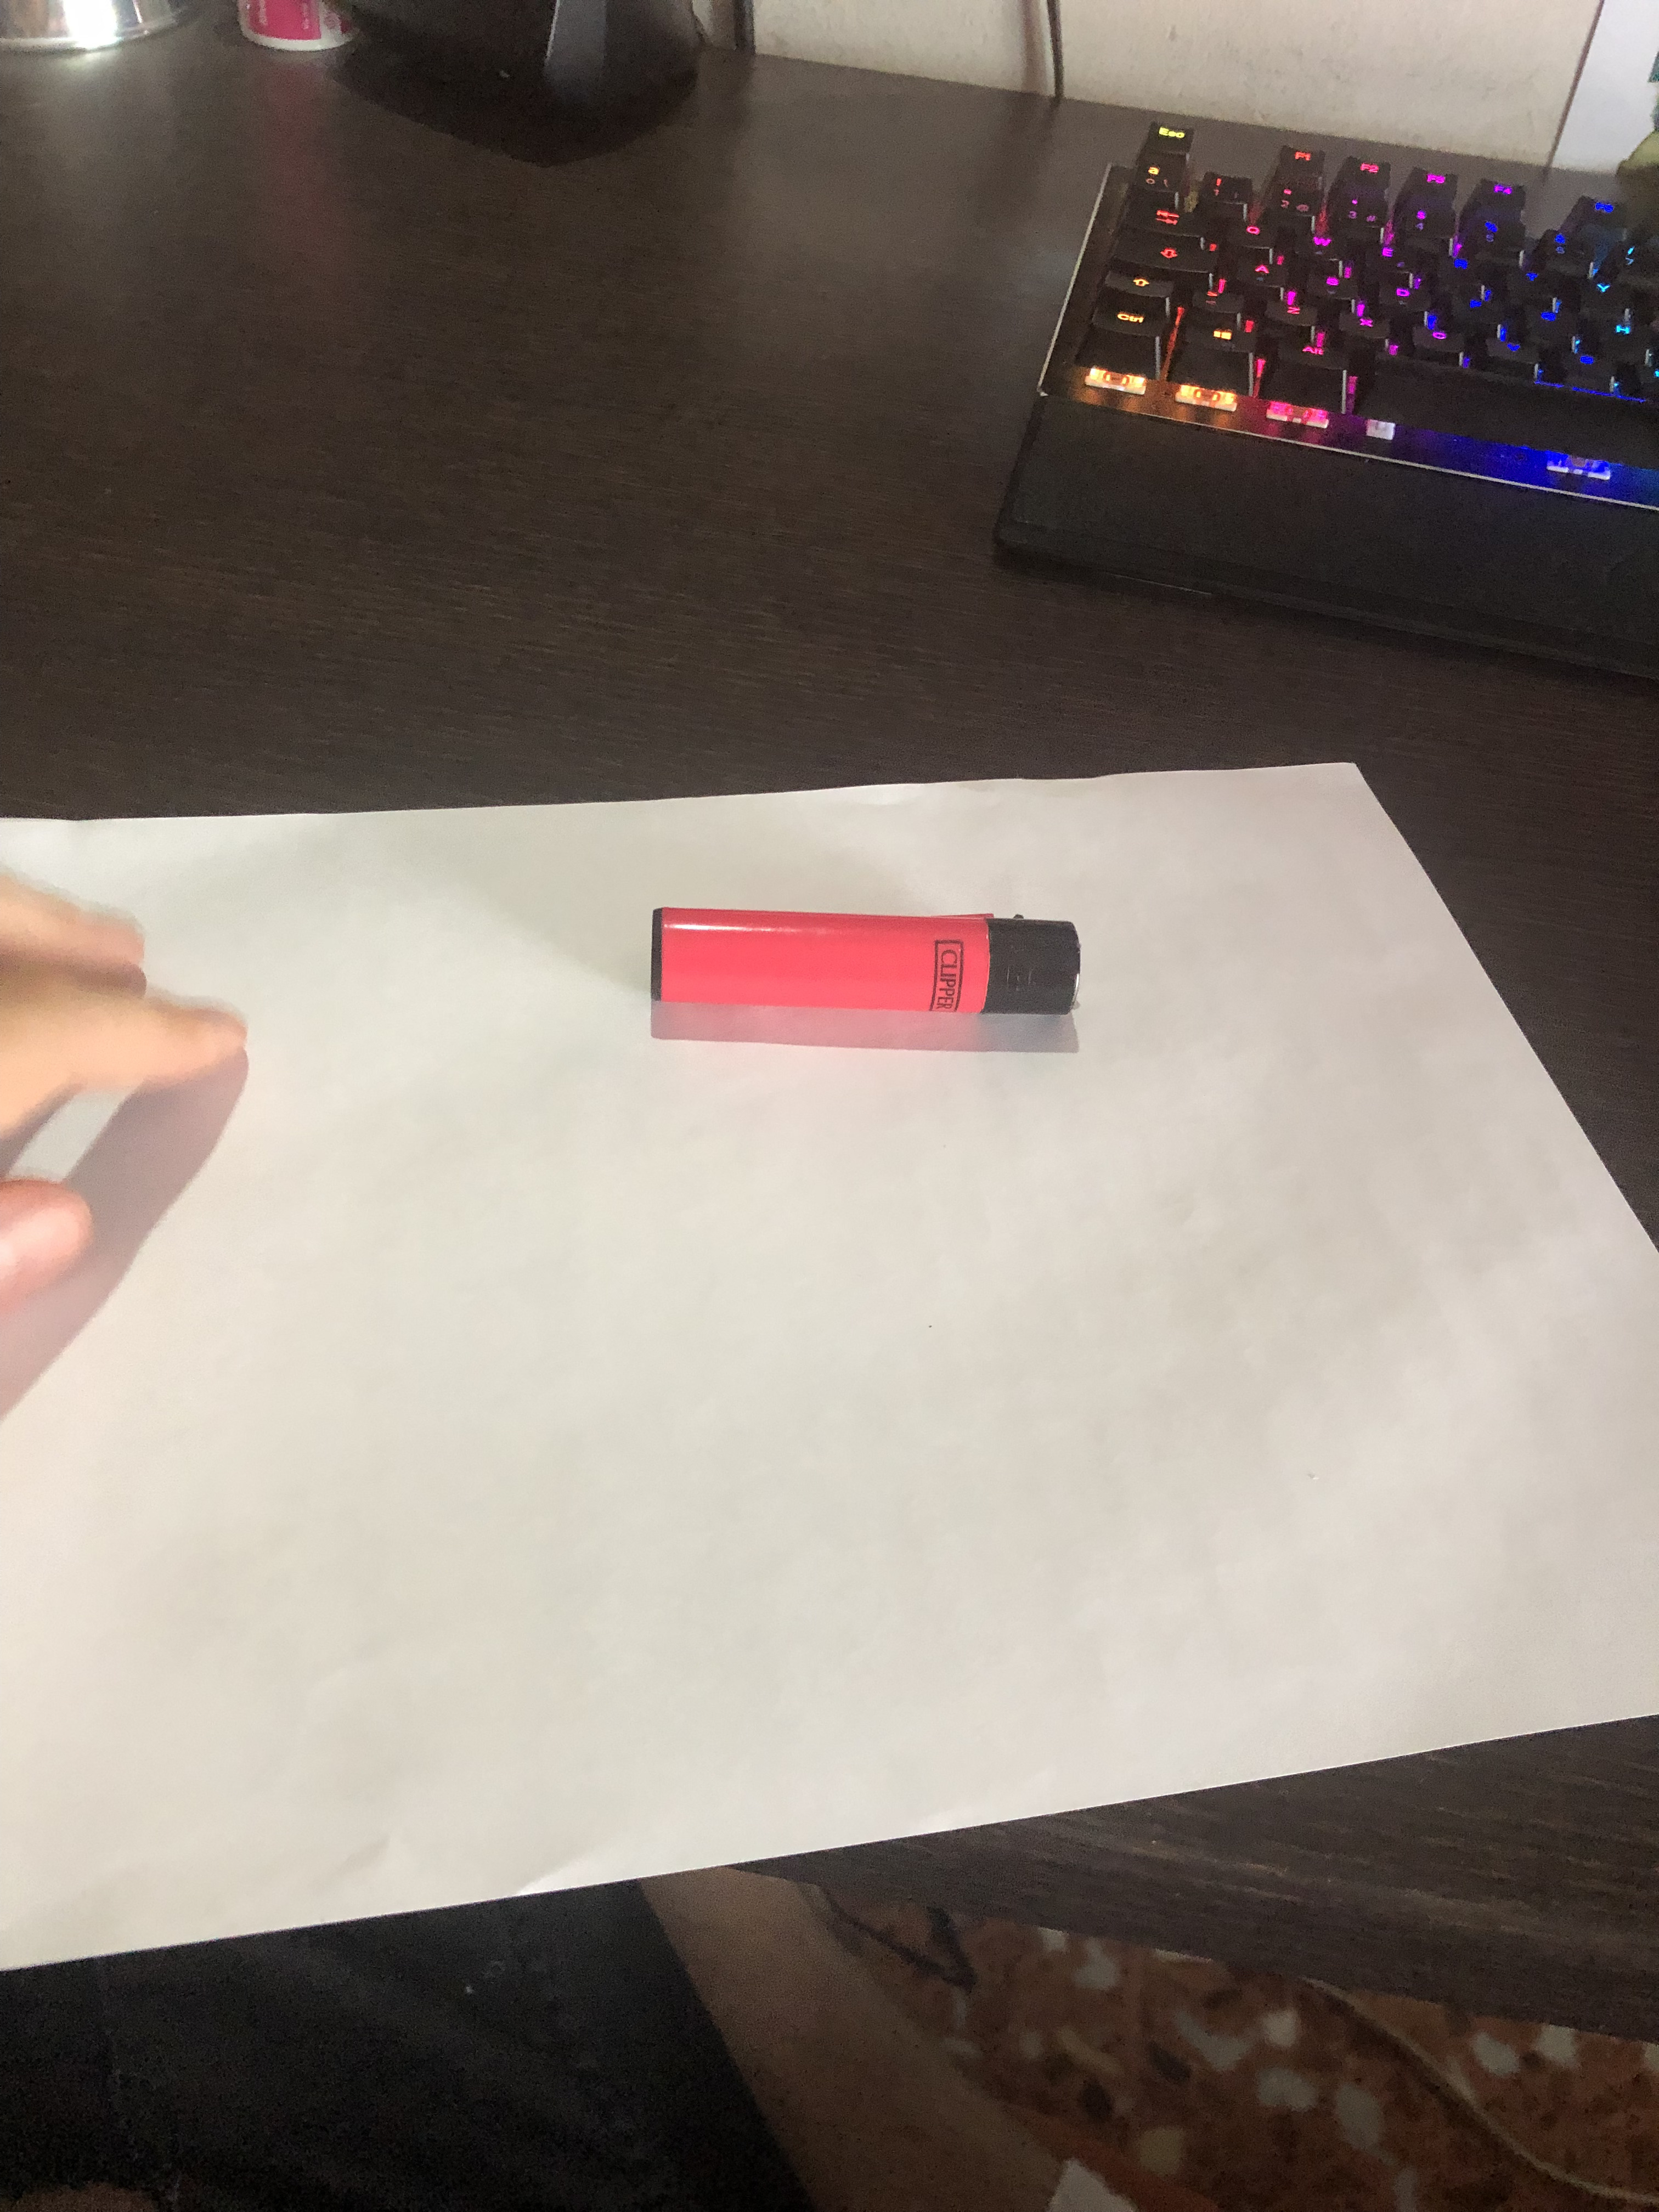Mechero: (608, 892, 1119, 1047)
